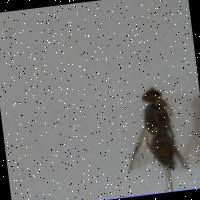Oriental-fruit-fly: (107, 47, 200, 180)
